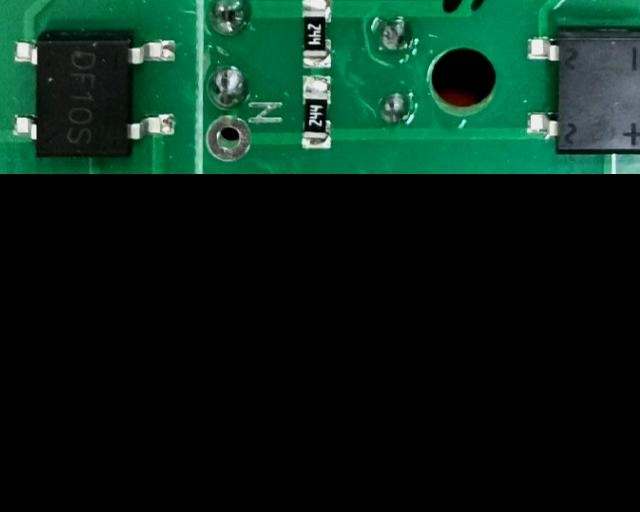chip-resistor: (298, 73, 333, 152), (299, 0, 333, 69)
ic: (9, 26, 180, 162), (522, 25, 640, 158)
